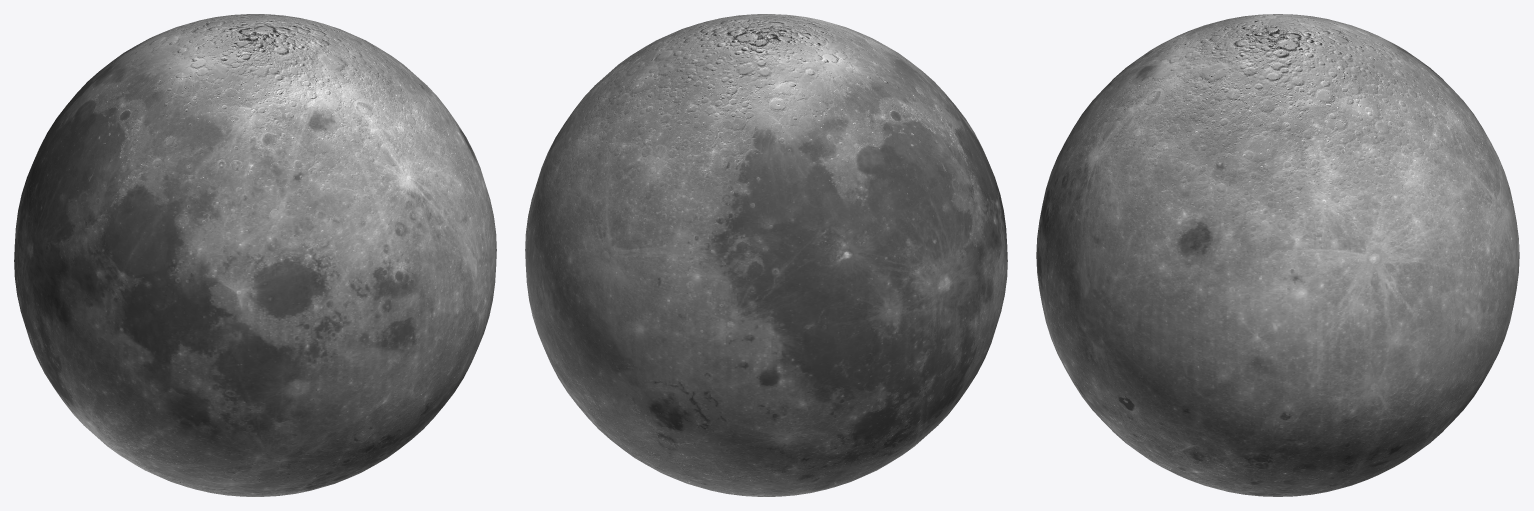
The model's file is moon.gltf.
The picture shows the model from 3 angles, left to right: view 1: azimuth 30°, elevation 25°; view 2: azimuth 150°, elevation 25°; view 3: azimuth 270°, elevation 25°; orthographic projection.
Parts seen in each view (by area): view 1: earth_moon_GEO; view 2: earth_moon_GEO; view 3: earth_moon_GEO.
Boxes of the visible parts, left/top/right/bottom form: earth_moon_GEO: left=14, top=14, right=496, bottom=496; earth_moon_GEO: left=525, top=14, right=1007, bottom=496; earth_moon_GEO: left=1036, top=14, right=1519, bottom=496.
Bounding box in the file's own units: 0.0604 × 0.0604 × 0.0604.
Materials: 1 (1 with a texture image).
